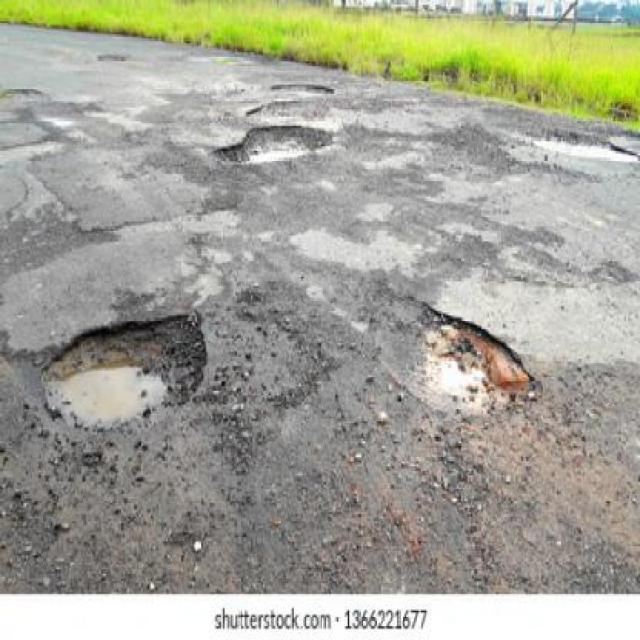Pothole: (44, 312, 206, 428), (406, 302, 535, 415), (216, 125, 332, 163), (245, 98, 330, 123), (270, 82, 335, 94)
